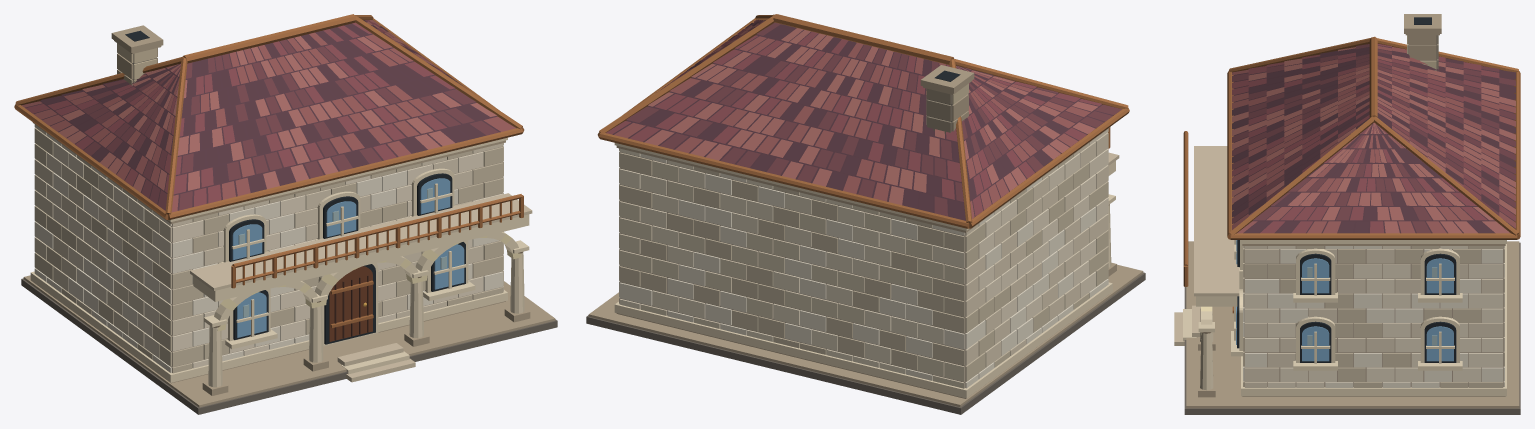
Rendered from noble-nivel-2.glb.
The picture shows the model from 3 angles, left to right: view 1: azimuth 30°, elevation 25°; view 2: azimuth 150°, elevation 25°; view 3: azimuth 270°, elevation 25°; orthographic projection. The views are drawn at different scales.
Visible parts, largest first — view 1: Casa nobre 02 #593b44, Casa nobre 02 #e6d7ba, Casa nobre 02 #a76e42, Casa nobre 02 #cec1a8, Casa nobre 02 #b4a38a, Casa nobre 02 #ded1b9, Casa nobre 02 #e8dcc5, Casa nobre 02 #eae1ce, Casa nobre 02 #70444a, Casa nobre 02 #8f5655, Casa nobre 02 #9e645f, Casa nobre 02 #824a50 (+9 smaller); view 2: Casa nobre 02 #cec1a8, Casa nobre 02 #ded1b9, Casa nobre 02 #e8dcc5, Casa nobre 02 #593b44, Casa nobre 02 #eae1ce, Casa nobre 02 #9e645f, Casa nobre 02 #a76e42, Casa nobre 02 #70444a, Casa nobre 02 #8f5655, Casa nobre 02 #824a50, Casa nobre 02 #b4a38a, Casa nobre 02 #e6d7ba (+3 smaller); view 3: Casa nobre 02 #593b44, Casa nobre 02 #b4a38a, Casa nobre 02 #9e645f, Casa nobre 02 #e6d7ba, Casa nobre 02 #e8dcc5, Casa nobre 02 #a76e42, Casa nobre 02 #8f5655, Casa nobre 02 #70444a, Casa nobre 02 #824a50, Casa nobre 02 #cec1a8, Casa nobre 02 #eae1ce, Casa nobre 02 #d3c3a9 (+5 smaller).
Boxes of the visible parts, x1,y1,x2,y2 form: Casa nobre 02 #593b44: (25,20,500,210); Casa nobre 02 #e6d7ba: (30,137,529,387); Casa nobre 02 #a76e42: (14,14,524,327); Casa nobre 02 #cec1a8: (34,128,503,373); Casa nobre 02 #b4a38a: (23,25,555,407); Casa nobre 02 #ded1b9: (34,124,503,346); Casa nobre 02 #e8dcc5: (46,141,503,368); Casa nobre 02 #eae1ce: (34,133,503,372); Casa nobre 02 #70444a: (83,32,498,210); Casa nobre 02 #8f5655: (21,28,515,212); Casa nobre 02 #9e645f: (58,20,496,192); Casa nobre 02 #824a50: (25,20,454,206); Casa nobre 02 #cec1a8: (619,148,1108,381); Casa nobre 02 #ded1b9: (619,132,1108,388); Casa nobre 02 #e8dcc5: (619,129,1108,374); Casa nobre 02 #593b44: (612,20,1113,220); Casa nobre 02 #eae1ce: (619,151,1108,388); Casa nobre 02 #9e645f: (644,21,1098,205); Casa nobre 02 #a76e42: (597,14,1129,228); Casa nobre 02 #70444a: (626,19,1121,216); Casa nobre 02 #8f5655: (614,20,1090,218); Casa nobre 02 #824a50: (606,29,1101,216); Casa nobre 02 #b4a38a: (588,65,1143,406); Casa nobre 02 #e6d7ba: (614,143,1115,398); Casa nobre 02 #593b44: (1232,45,1515,233); Casa nobre 02 #b4a38a: (1186,14,1519,408); Casa nobre 02 #9e645f: (1232,47,1515,233); Casa nobre 02 #e6d7ba: (1183,240,1506,396); Casa nobre 02 #e8dcc5: (1243,246,1504,387); Casa nobre 02 #a76e42: (1183,36,1520,313); Casa nobre 02 #8f5655: (1232,46,1515,233); Casa nobre 02 #70444a: (1232,44,1515,233); Casa nobre 02 #824a50: (1232,43,1515,233); Casa nobre 02 #cec1a8: (1243,246,1504,387); Casa nobre 02 #eae1ce: (1243,246,1504,387); Casa nobre 02 #d3c3a9: (1174,146,1239,345).
Size of the model in its own units: 8.93 by 6.29 by 7.67.
